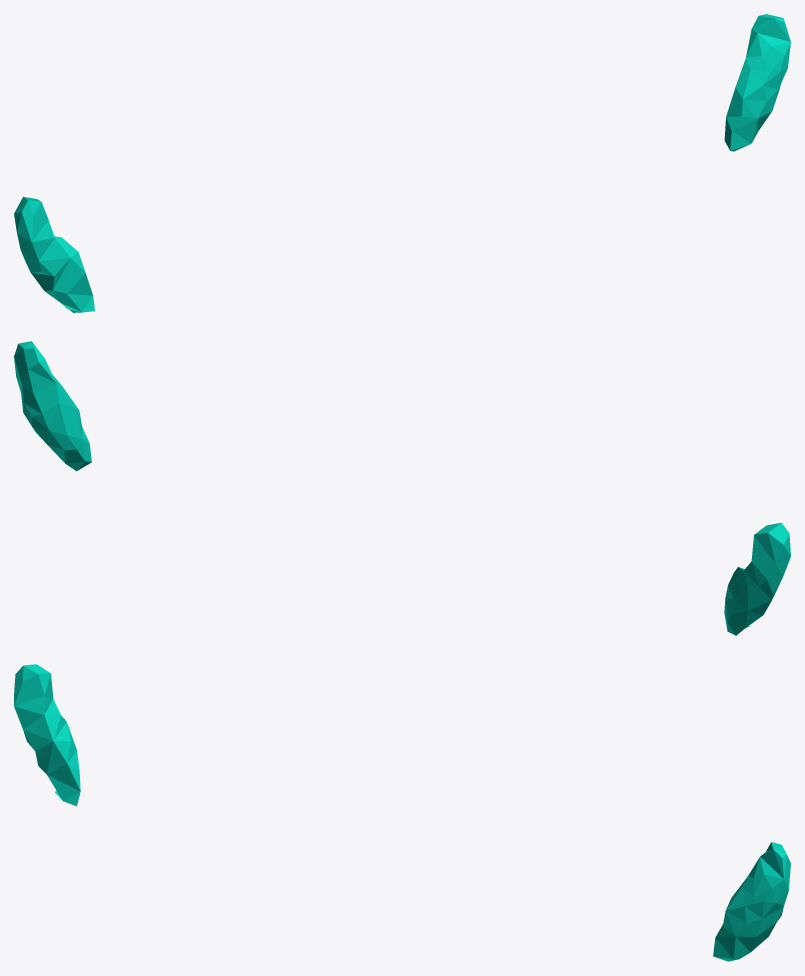
The model's file is 27-DEn-dorsal endopiriform nucleus-('0.0000', '1.0000', '0.8824').obj.
3 views of the same model, one above another, from view 1: azimuth 30°, elevation 25°; view 2: azimuth 150°, elevation 25°; view 3: azimuth 330°, elevation 25° (orthographic).
Bounding box in the file's own units: 171 × 26.29 × 7.76.
